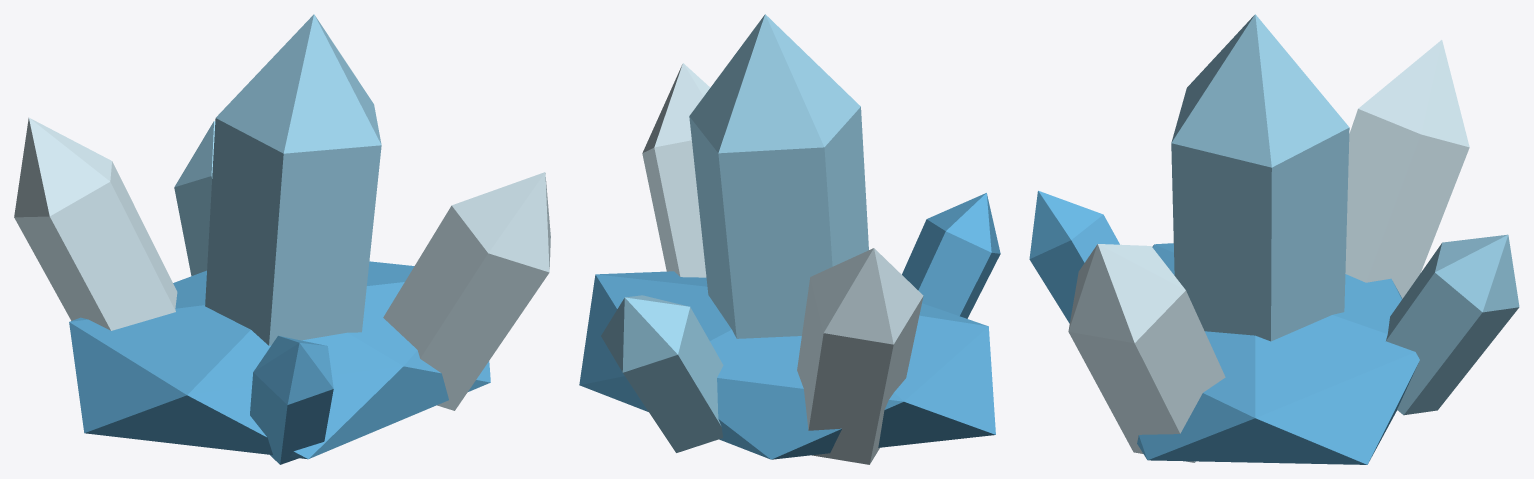
File: ice_rock.glb
3 renders of one model, left to right at view 1: azimuth 30°, elevation 25°; view 2: azimuth 150°, elevation 25°; view 3: azimuth 270°, elevation 25°, orthographic. The views are drawn at different scales.
Visible parts, largest first — view 1: ice_rock; view 2: ice_rock; view 3: ice_rock.
Part boxes in pixels (box(x1,y1,x2,y2)): ice_rock: box(14, 14, 550, 464); ice_rock: box(579, 14, 1000, 464); ice_rock: box(1029, 14, 1519, 464).
Size of the model in its own units: 0.3776 by 0.35 by 0.371.
